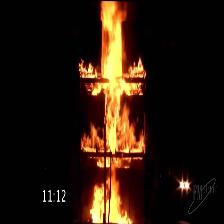fire: (84, 1, 135, 222)
